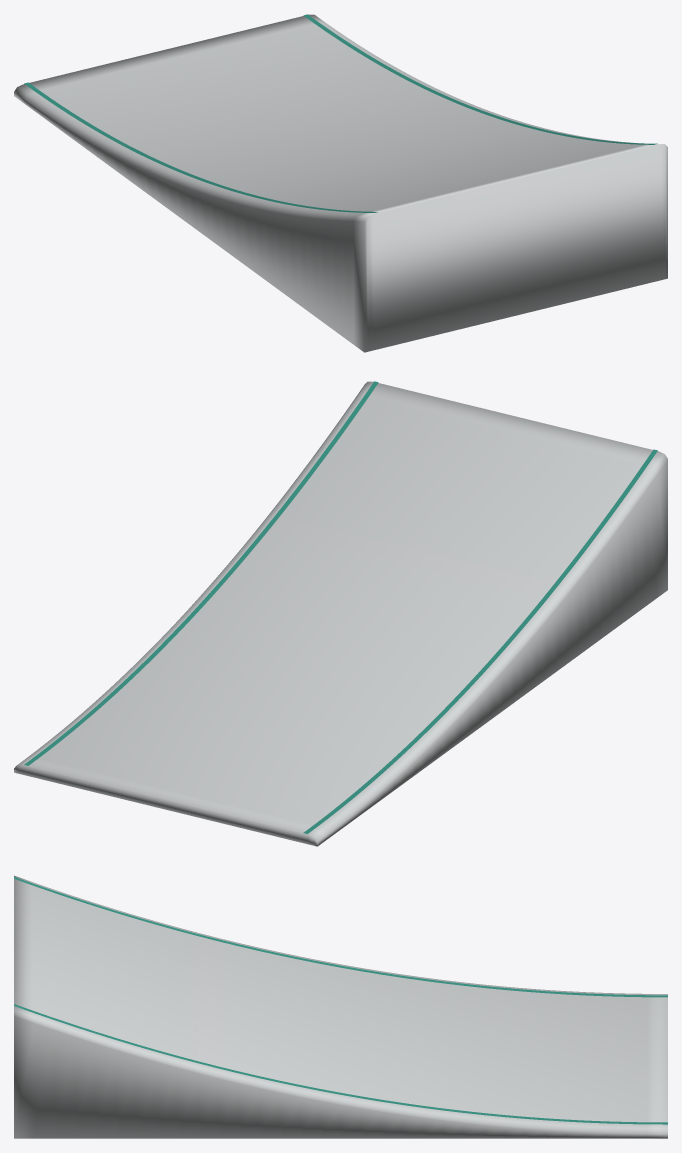
Rendered from jump-ramp.glb.
3 renders of one model, top to bottom at view 1: azimuth 30°, elevation 25°; view 2: azimuth 150°, elevation 25°; view 3: azimuth 270°, elevation 25°, orthographic. The views are drawn at different scales.
Parts seen in each view (by area): view 1: jump_ramp; view 2: jump_ramp; view 3: jump_ramp.
Boxes of the visible parts, bbox=[...] form: jump_ramp: bbox=[14, 14, 667, 352]; jump_ramp: bbox=[14, 381, 667, 846]; jump_ramp: bbox=[14, 875, 667, 1138].
Bounding box in the file's own units: 6 × 2.59 × 12.
